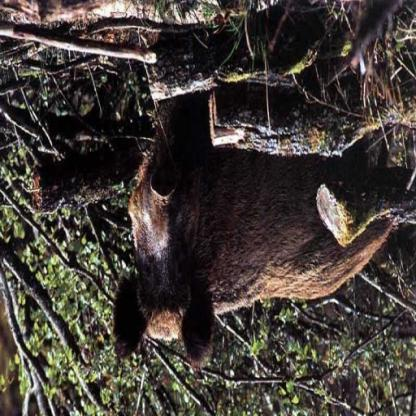boar: (111, 74, 415, 386)
